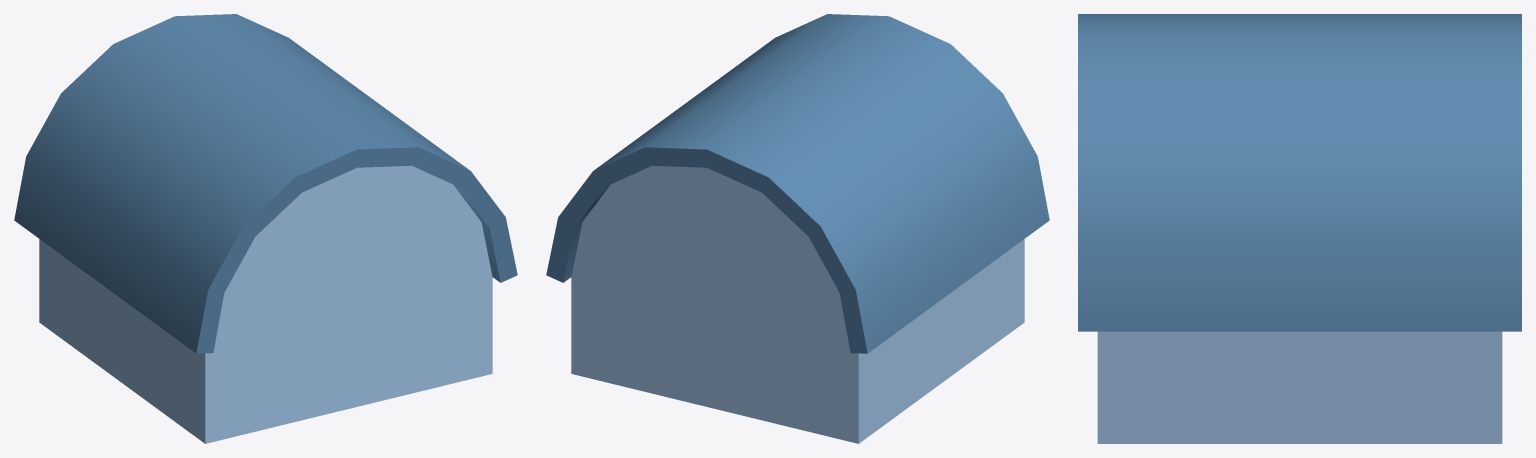
File: Map-House-R-Lv1-B.fbx
3 views of the same model, side by side, from view 1: azimuth 30°, elevation 25°; view 2: azimuth 150°, elevation 25°; view 3: azimuth 270°, elevation 25° (orthographic). The views are drawn at different scales.
Visible parts, largest first — view 1: Map-House-R-Lv1-B; view 2: Map-House-R-Lv1-B; view 3: Map-House-R-Lv1-B.
Part boxes in pixels (bbox=[...]): Map-House-R-Lv1-B: bbox=[14, 14, 517, 443]; Map-House-R-Lv1-B: bbox=[546, 14, 1049, 443]; Map-House-R-Lv1-B: bbox=[1078, 14, 1521, 443].
Size of the model in its own units: 1.34 by 1.06 by 1.32.
